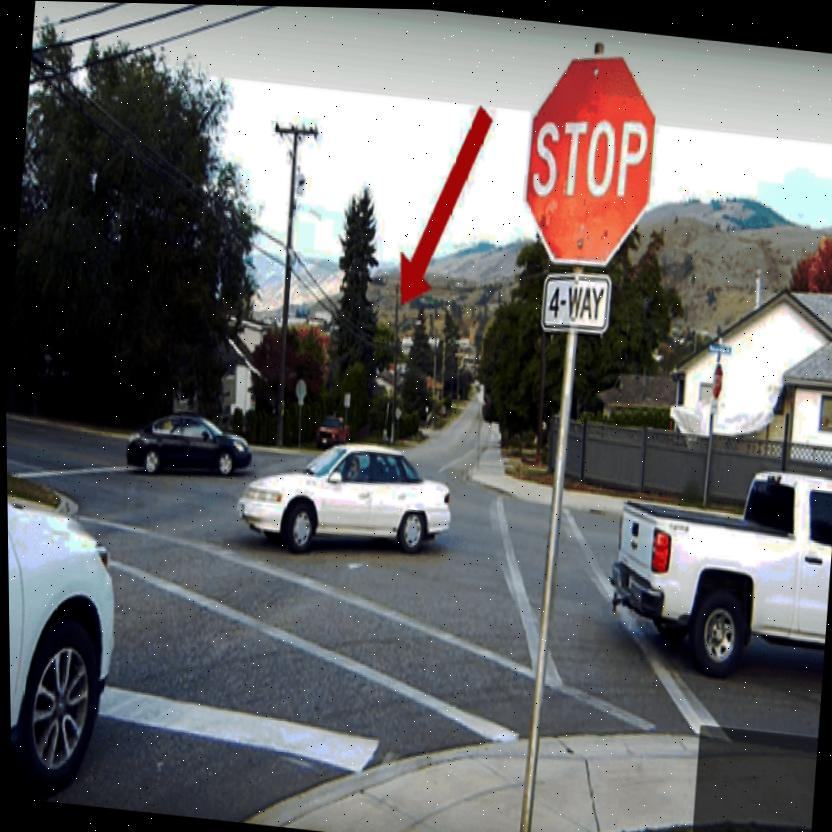Pole: (510, 329, 581, 832), (697, 398, 717, 502), (295, 403, 302, 445)
Sign: (516, 46, 663, 268), (293, 378, 305, 398)
